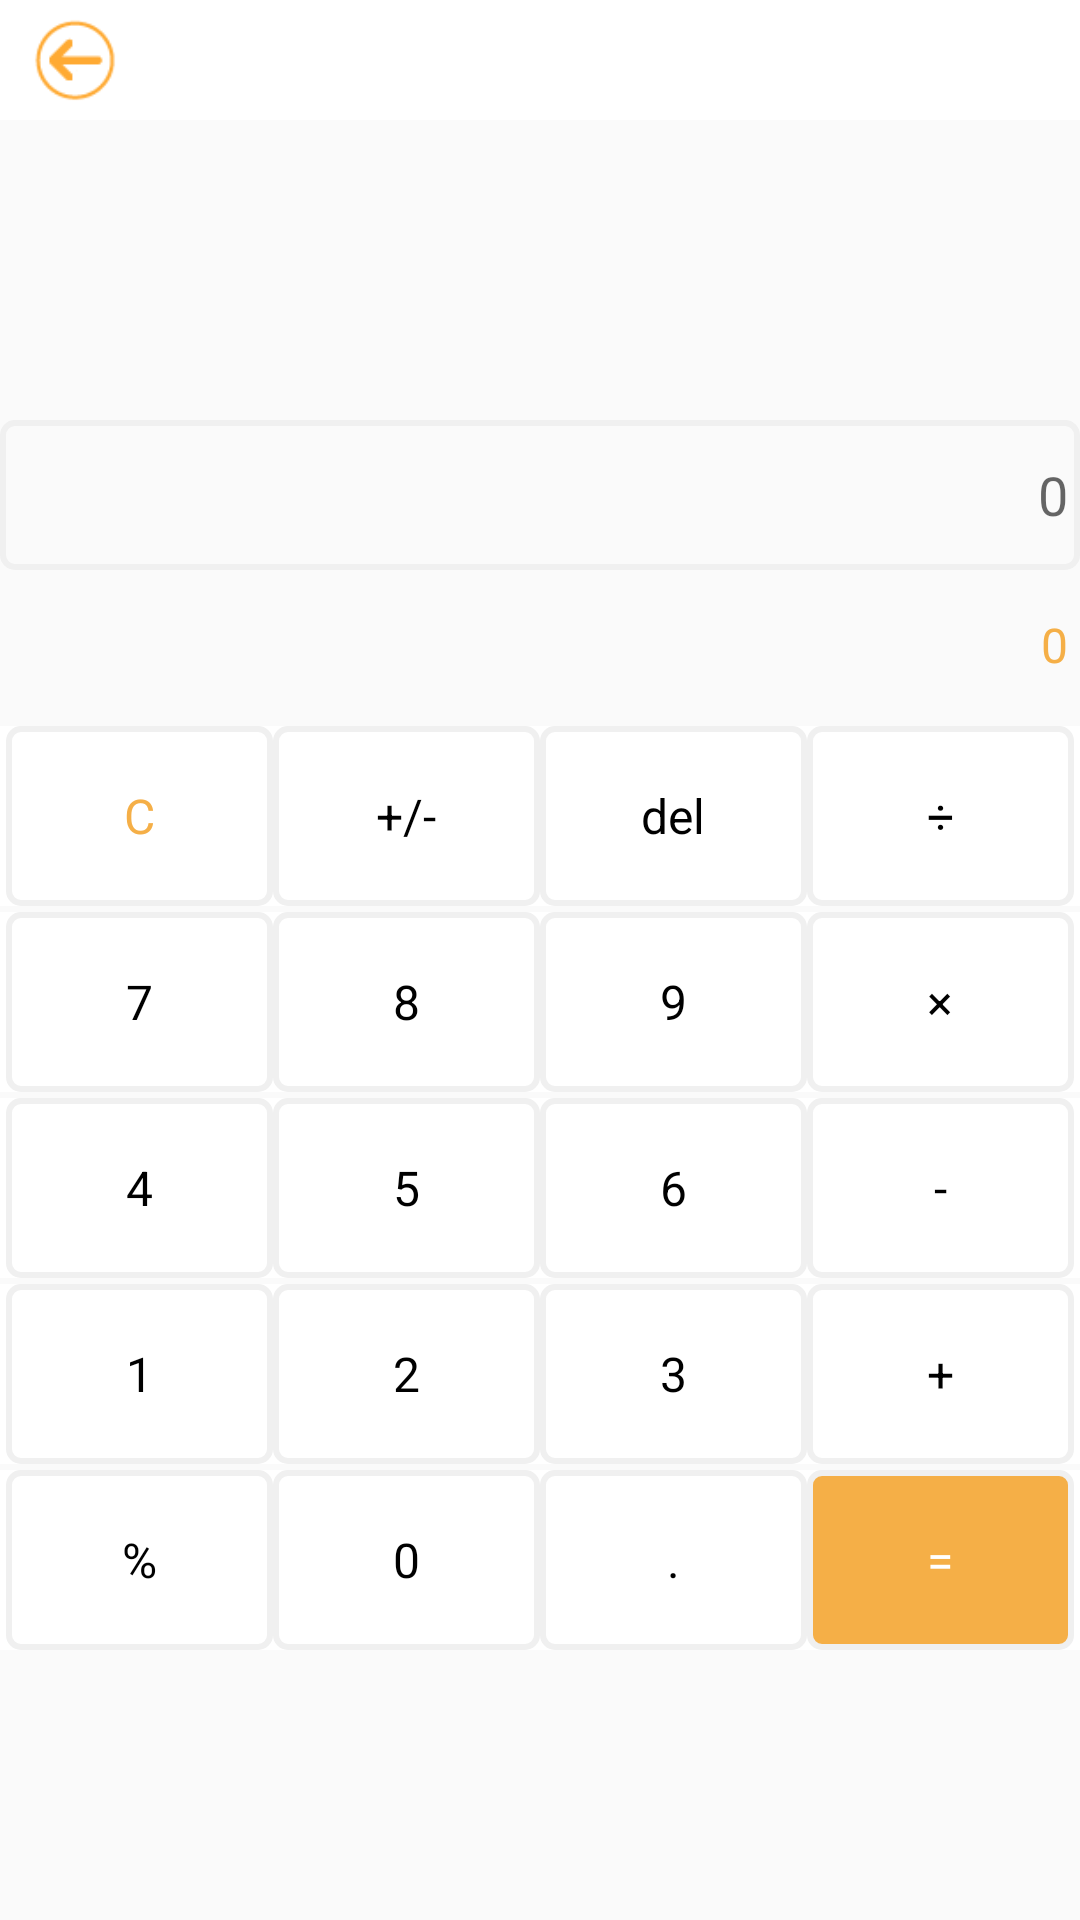

Point at icon controls on the screen. Image size 1080 × 1920, points as point (x, y).
back: point (75, 60)
